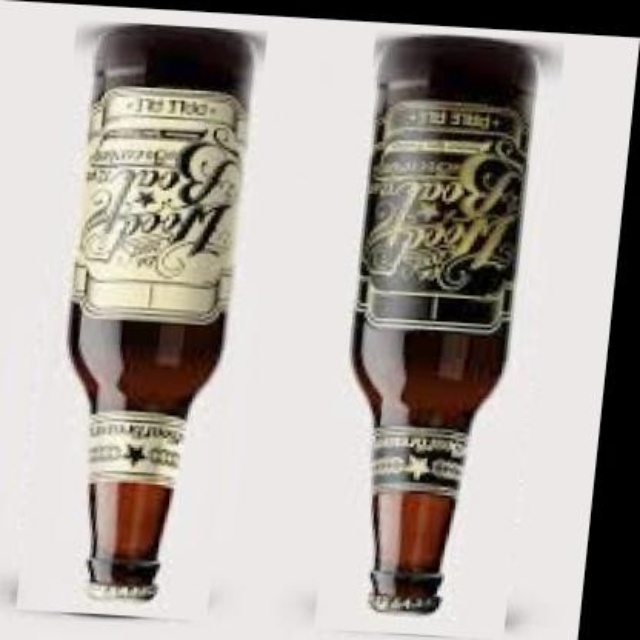trash: (69, 26, 249, 598), (354, 37, 531, 612)
